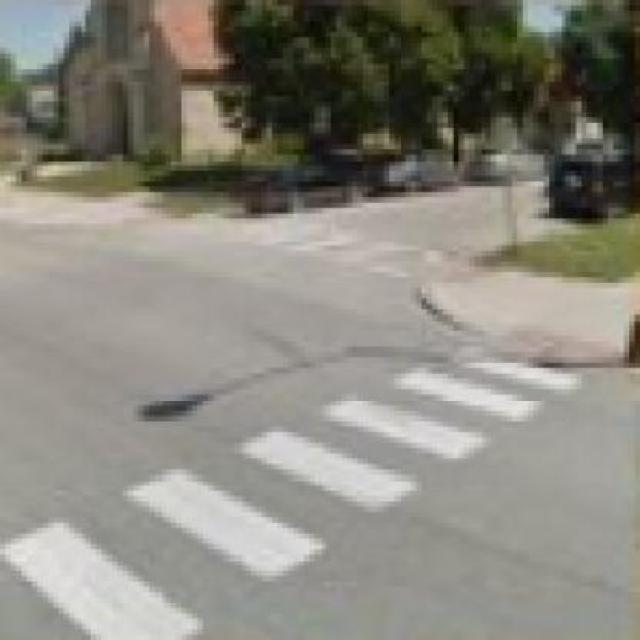crosswalk: (2, 350, 580, 640), (255, 225, 453, 281)
